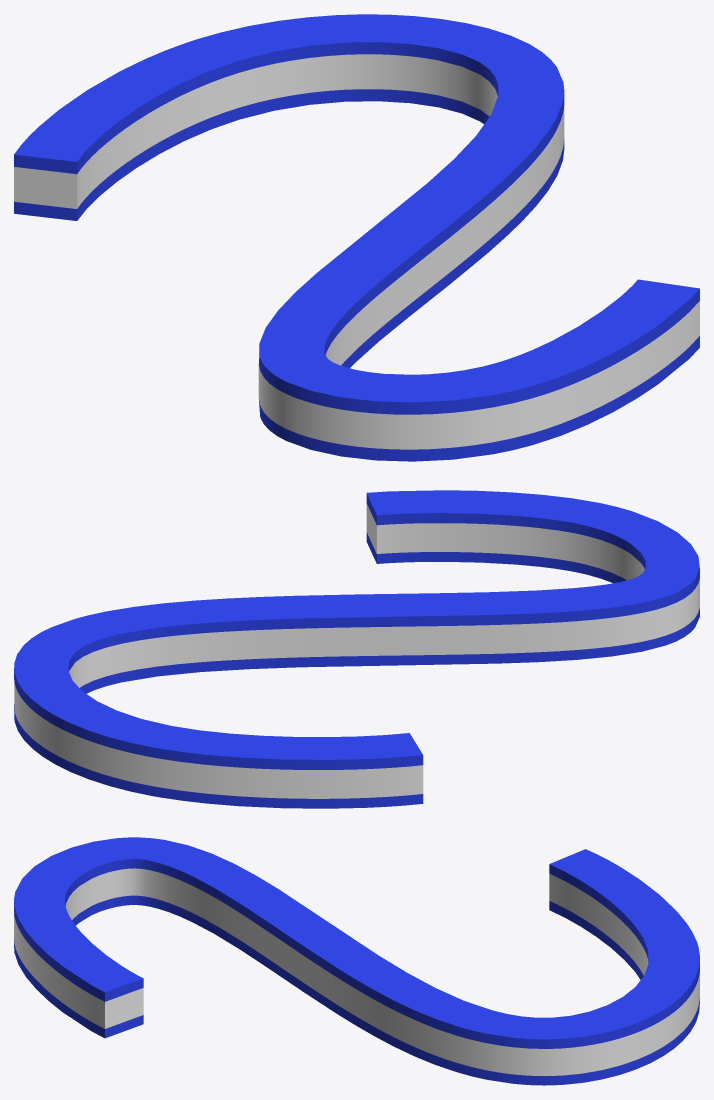
Rendered from SplineTool.fbx.
The picture shows the model from 3 angles, top to bottom: view 1: azimuth 30°, elevation 25°; view 2: azimuth 150°, elevation 25°; view 3: azimuth 270°, elevation 25°; orthographic projection. The views are drawn at different scales.
Visible parts, largest first — view 1: Outside, Inside; view 2: Outside, Inside; view 3: Outside, Inside.
Boxes of the visible parts, x1,y1,x2,y2 form: Outside: (14,14,699,461); Inside: (14,54,699,449); Outside: (14,490,699,808); Inside: (14,504,699,798); Outside: (14,837,699,1085); Inside: (14,868,699,1076).
Bounding box in the file's own units: 0.2927 × 0.0311 × 0.42.
